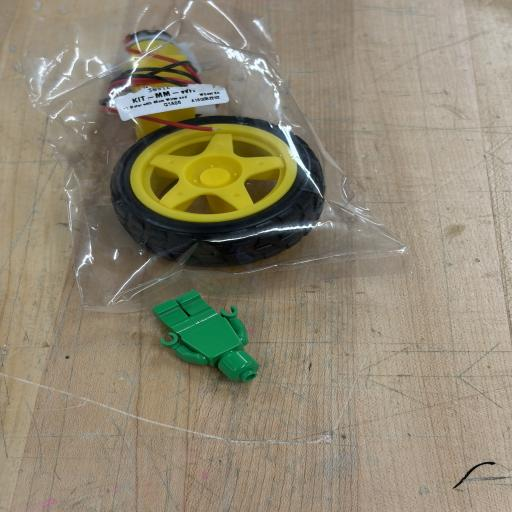Green-Lego: (153, 290, 259, 382)
